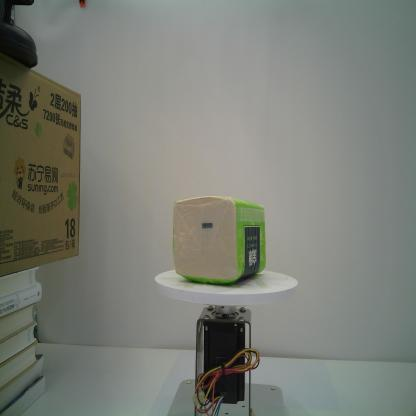Tissue: (172, 194, 267, 288)
